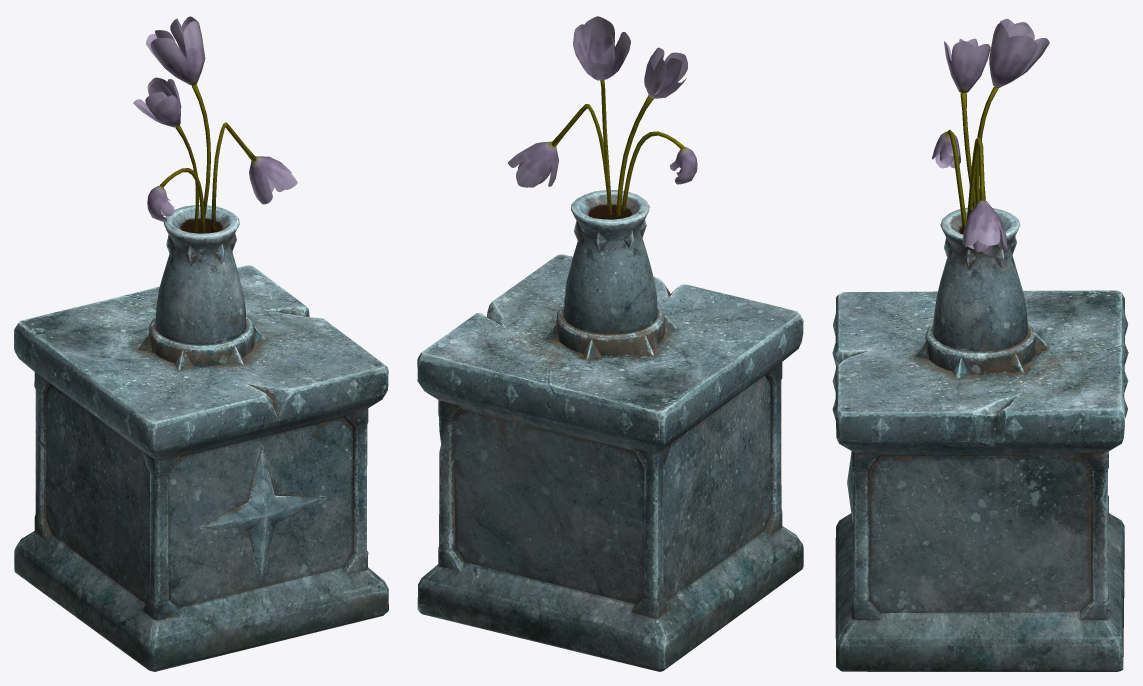
3 renders of one model, left to right at view 1: azimuth 30°, elevation 25°; view 2: azimuth 150°, elevation 25°; view 3: azimuth 270°, elevation 25°, orthographic. The views are drawn at different scales.
Visible parts, largest first — view 1: SM_Memorial_Cliff_01_LOD0; view 2: SM_Memorial_Cliff_01_LOD0; view 3: SM_Memorial_Cliff_01_LOD0.
Boxes of the visible parts, left/top/right/bottom form: SM_Memorial_Cliff_01_LOD0: left=14, top=16, right=388, bottom=671; SM_Memorial_Cliff_01_LOD0: left=417, top=16, right=803, bottom=671; SM_Memorial_Cliff_01_LOD0: left=832, top=18, right=1128, bottom=671.
Size of the model in its own units: 0.7183 by 1.59 by 0.7201.
1 material, 1 textured.
